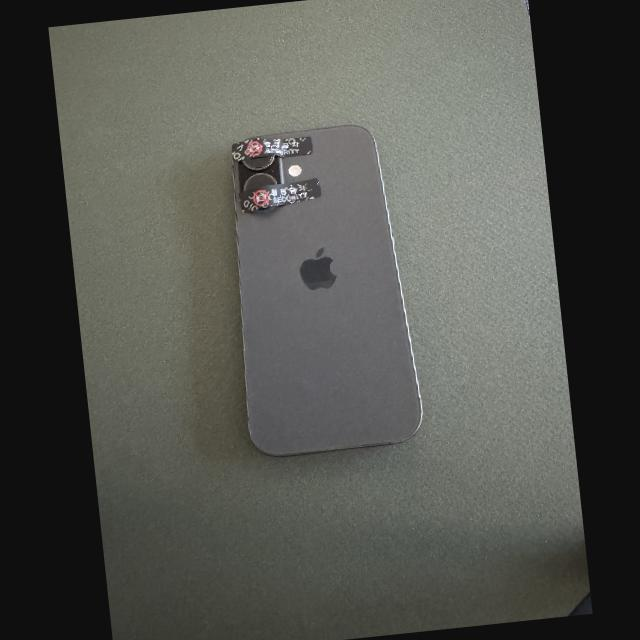lens: (245, 173, 275, 190), (244, 155, 274, 168)
phone: (232, 125, 421, 455)
sticker: (239, 178, 321, 212), (232, 136, 312, 162)
